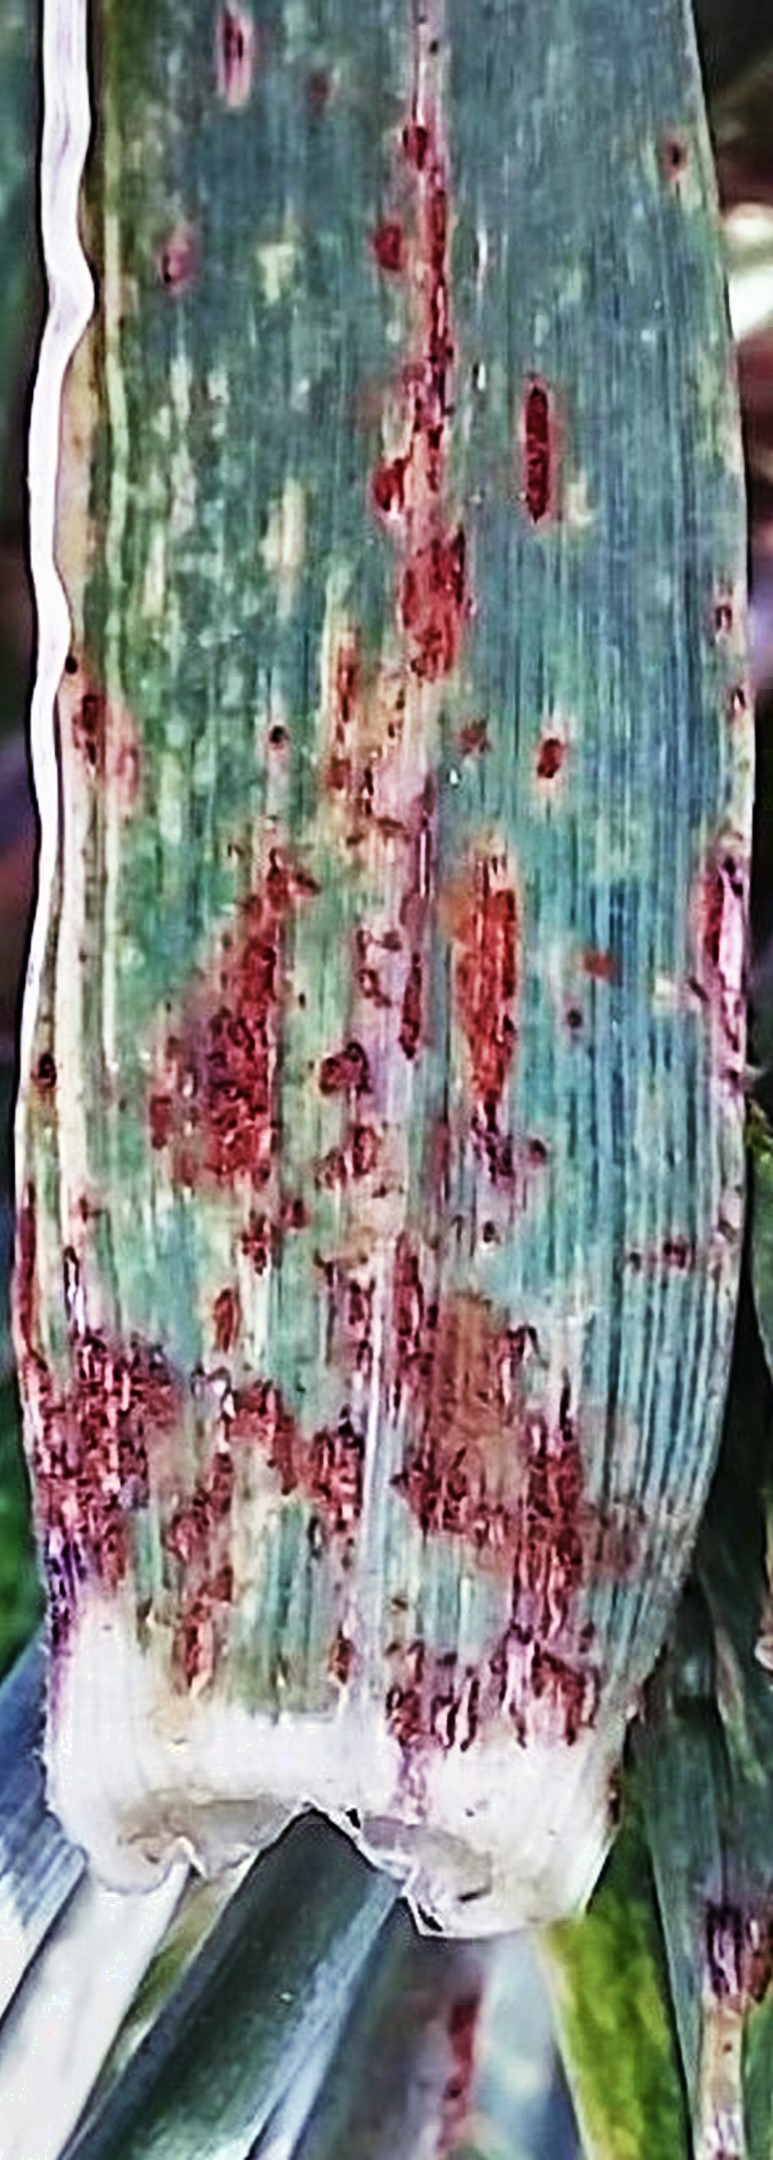Leaf Rust: (10, 259, 773, 1767)
